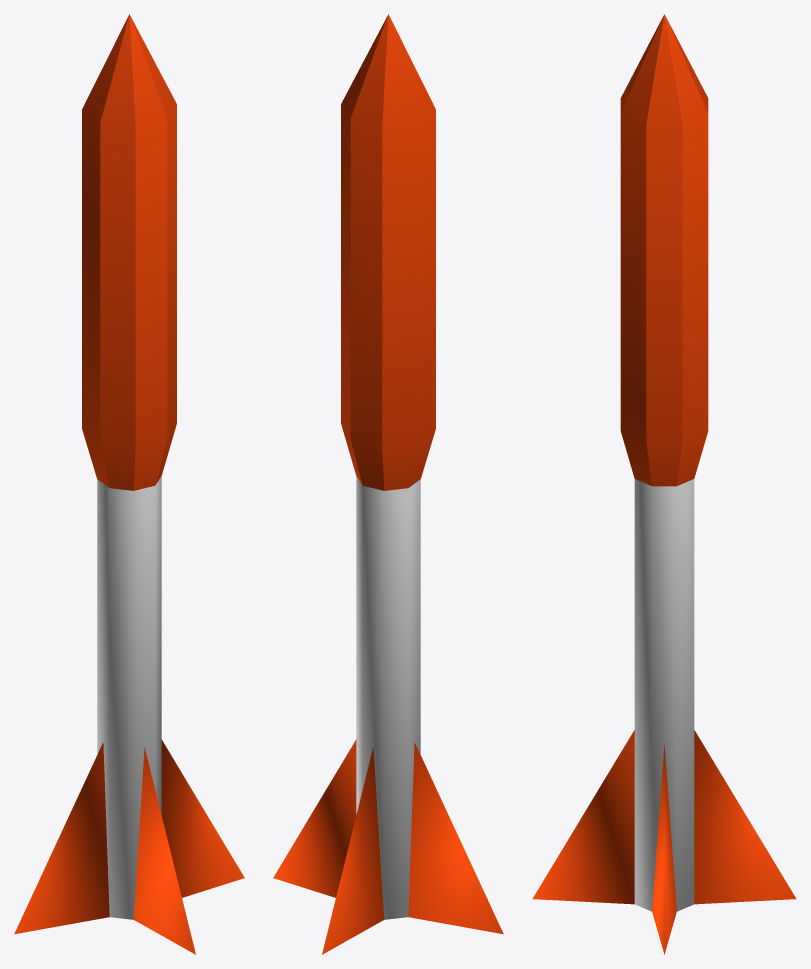
Rendered from coba.obj.
3 renders of one model, left to right at view 1: azimuth 30°, elevation 25°; view 2: azimuth 150°, elevation 25°; view 3: azimuth 270°, elevation 25°, orthographic.
Visible parts, largest first — view 1: Mesh1 Group1 Model, Mesh2 Group2 Model, Mesh6 Group3 Model, Mesh5 Group3 Model, Mesh4 Group3 Model; view 2: Mesh1 Group1 Model, Mesh2 Group2 Model, Mesh6 Group3 Model, Mesh5 Group3 Model, Mesh3 Group3 Model; view 3: Mesh1 Group1 Model, Mesh2 Group2 Model, Mesh3 Group3 Model, Mesh4 Group3 Model, Mesh5 Group3 Model.
Boxes of the visible parts, x1,y1,x2,y2 form: Mesh1 Group1 Model: (82, 14, 176, 490); Mesh2 Group2 Model: (97, 476, 161, 919); Mesh6 Group3 Model: (14, 742, 109, 934); Mesh5 Group3 Model: (161, 739, 244, 897); Mesh4 Group3 Model: (133, 747, 195, 954); Mesh1 Group1 Model: (341, 14, 435, 490); Mesh2 Group2 Model: (356, 476, 420, 919); Mesh6 Group3 Model: (408, 742, 503, 934); Mesh5 Group3 Model: (273, 739, 356, 897); Mesh3 Group3 Model: (322, 747, 384, 954); Mesh1 Group1 Model: (620, 14, 708, 486); Mesh2 Group2 Model: (634, 479, 694, 911); Mesh3 Group3 Model: (694, 730, 796, 904); Mesh4 Group3 Model: (532, 730, 634, 904); Mesh5 Group3 Model: (652, 742, 676, 954).
Bounding box in the file's own units: 2794 × 10322 × 2794.
